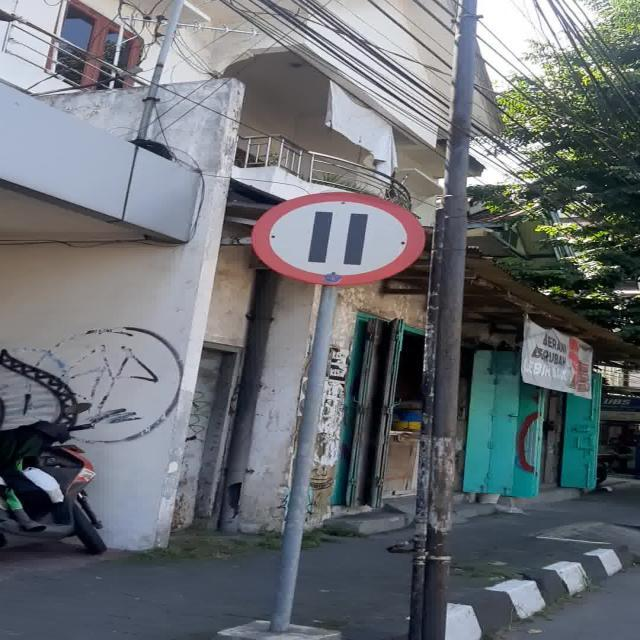Larangan Muatan - 10 ton: (252, 192, 424, 284)
